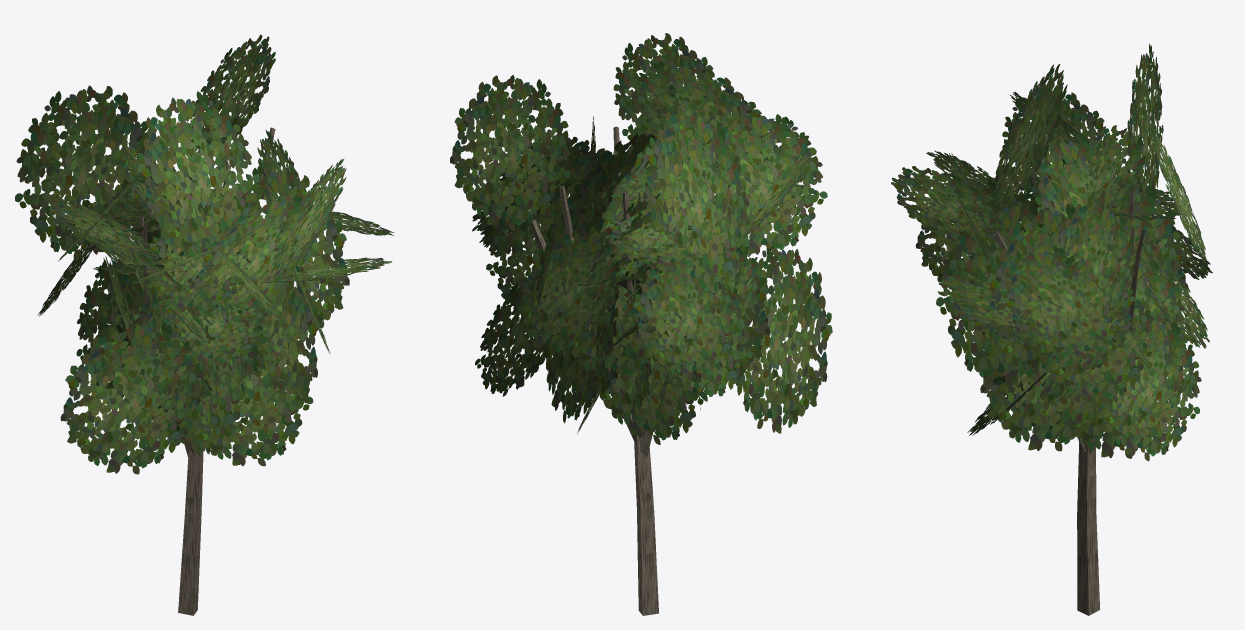
Rendered from CommonTree_4_LOD2.gltf.
3 views of the same model, side by side, from view 1: azimuth 30°, elevation 25°; view 2: azimuth 150°, elevation 25°; view 3: azimuth 270°, elevation 25° (orthographic). The views are drawn at different scales.
Parts seen in each view (by area): view 1: CommonTree_4_LOD2; view 2: CommonTree_4_LOD2; view 3: CommonTree_4_LOD2.
Boxes of the visible parts, box(x1,y1,x2,y2) form: CommonTree_4_LOD2: box(15, 34, 394, 615); CommonTree_4_LOD2: box(450, 33, 832, 615); CommonTree_4_LOD2: box(891, 43, 1212, 615).
Size of the model in its own units: 16.27 by 22.53 by 13.58.
Materials: 2 (2 with a texture image).
